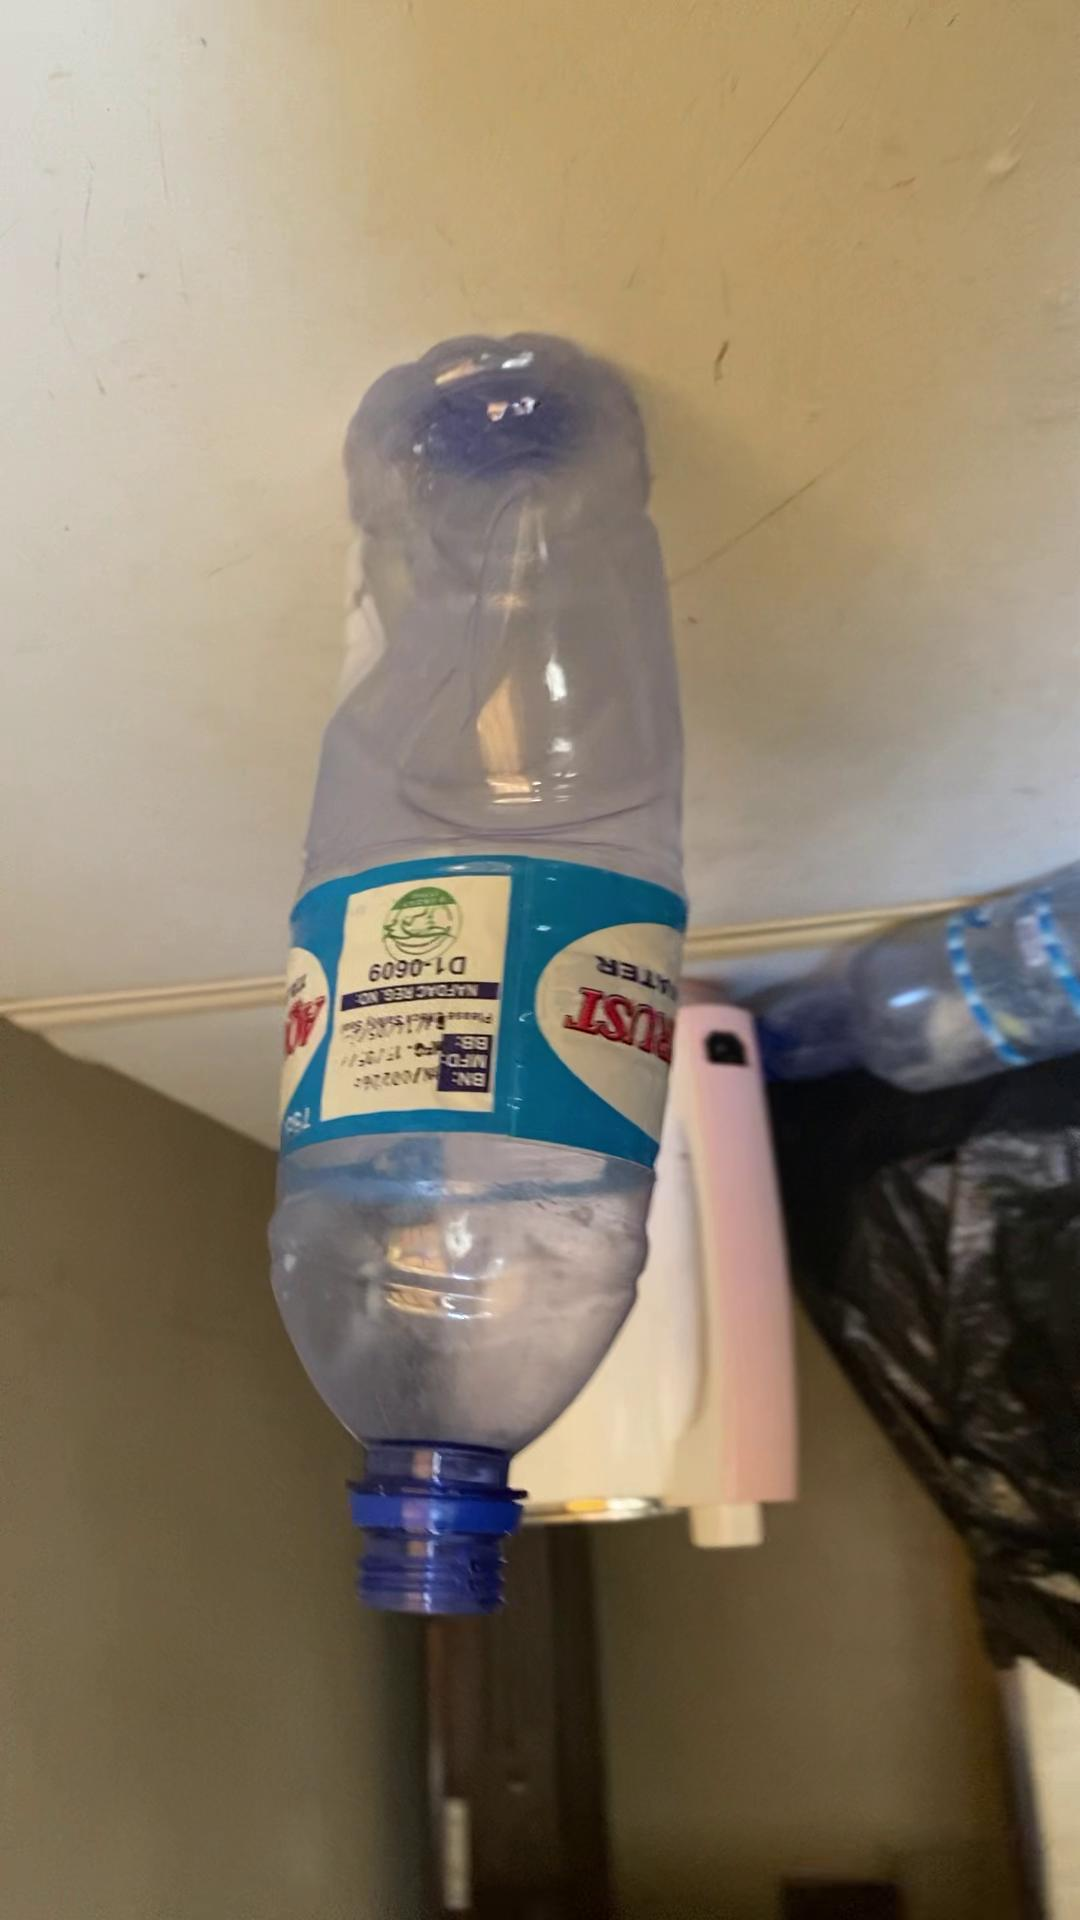crumbled: (256, 330, 700, 1629)
label: (277, 866, 666, 1150)
no-cap: (347, 1493, 522, 1621)
